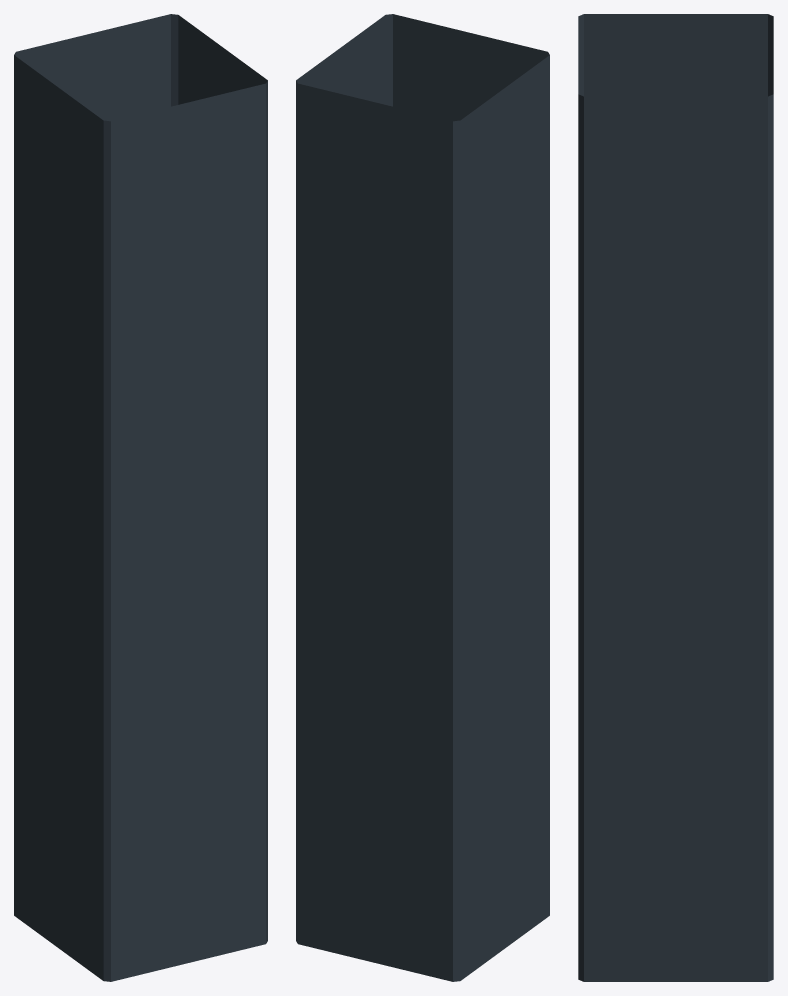
Rendered from B2_filar_mid.FBX.
3 renders of one model, left to right at view 1: azimuth 30°, elevation 25°; view 2: azimuth 150°, elevation 25°; view 3: azimuth 270°, elevation 25°, orthographic. The views are drawn at different scales.
Parts seen in each view (by area): view 1: B2_filar_mid; view 2: B2_filar_mid; view 3: B2_filar_mid.
Part boxes in pixels (x1,y1,x2,y2): B2_filar_mid: (14, 14, 267, 981); B2_filar_mid: (296, 14, 549, 981); B2_filar_mid: (578, 14, 773, 981).
Size of the model in its own units: 60 by 300 by 60.
